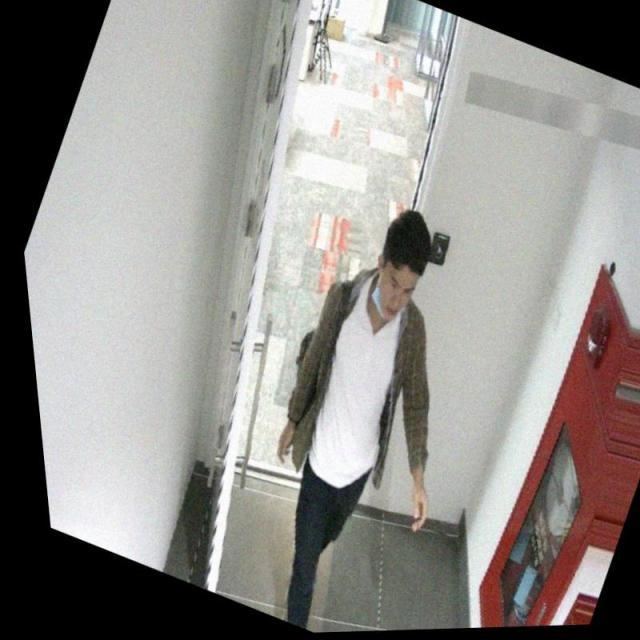hairnet: (353, 264, 412, 329)
